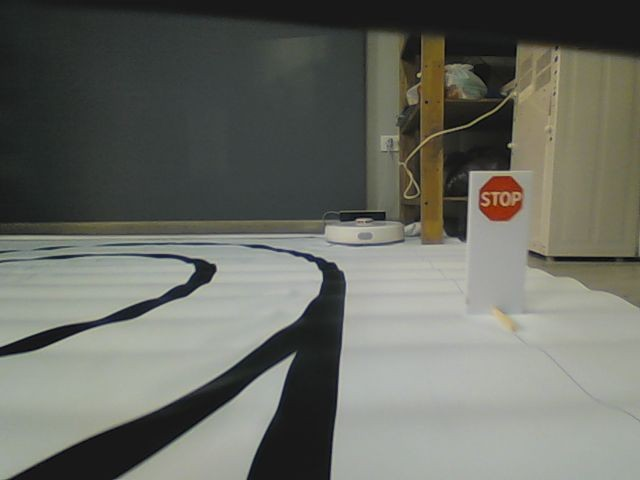Stop: (478, 173, 524, 221)
